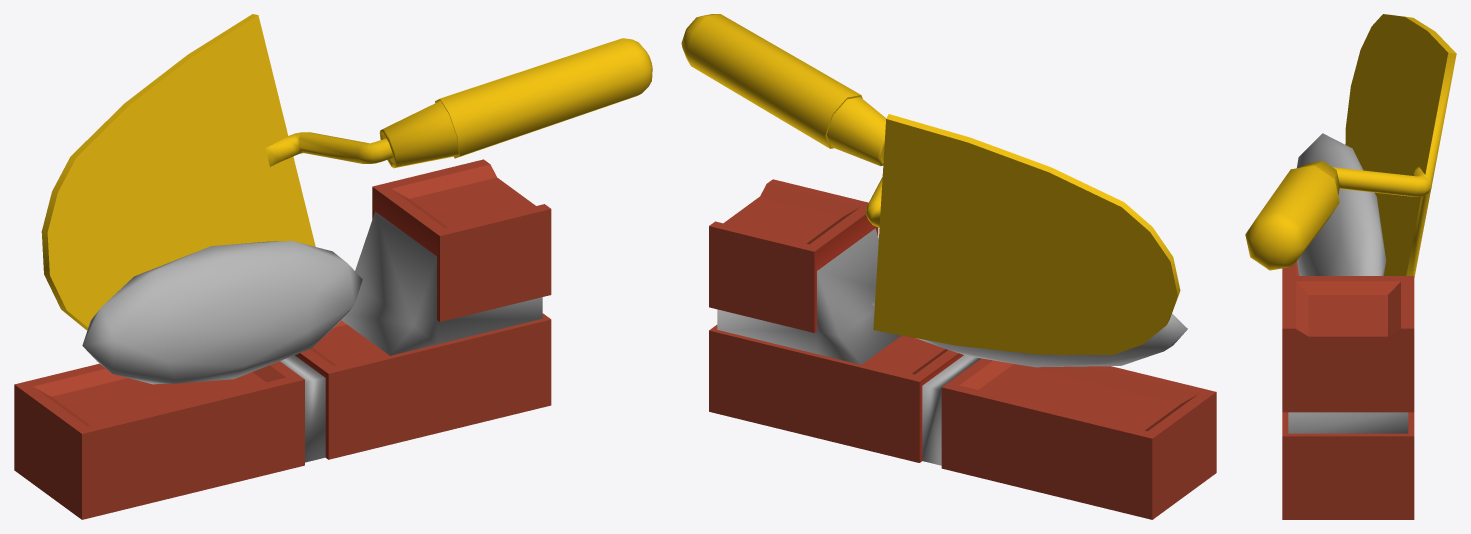
The picture shows the model from 3 angles, left to right: view 1: azimuth 30°, elevation 25°; view 2: azimuth 150°, elevation 25°; view 3: azimuth 270°, elevation 25°; orthographic projection. The views are drawn at different scales.
Parts seen in each view (by area): view 1: IWBtrophyGold, Bricks, Brick, Cement; view 2: IWBtrophyGold, Bricks, Brick, Cement; view 3: IWBtrophyGold, Brick, Bricks, Cement.
Part boxes in pixels (x1,y1,x2,y2): IWBtrophyGold: (41, 14, 652, 330); Bricks: (14, 313, 551, 519); Brick: (341, 159, 551, 355); Cement: (82, 241, 362, 384); IWBtrophyGold: (681, 14, 1180, 354); Bricks: (709, 325, 1216, 519); Brick: (709, 179, 901, 364); Cement: (871, 301, 1187, 367); IWBtrophyGold: (1245, 14, 1456, 277); Brick: (1282, 276, 1414, 433); Bricks: (1282, 261, 1414, 519); Cement: (1297, 133, 1386, 275).
Size of the model in its own units: 0.2401 by 0.1542 by 0.0802.
2 materials, 2 textured.
